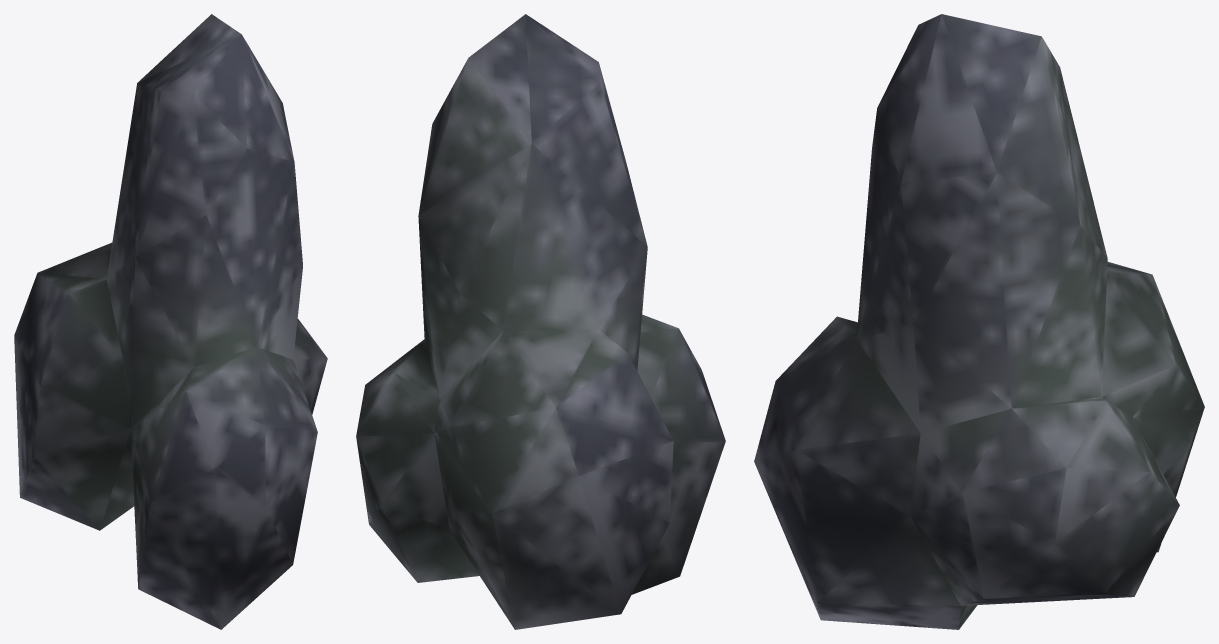
File: Rock_06.fbx
3 renders of one model, left to right at view 1: azimuth 30°, elevation 25°; view 2: azimuth 150°, elevation 25°; view 3: azimuth 270°, elevation 25°, orthographic. The views are drawn at different scales.
Parts seen in each view (by area): view 1: Rock_06; view 2: Rock_06; view 3: Rock_06.
Boxes of the visible parts, bbox=[...] form: Rock_06: bbox=[14, 14, 327, 629]; Rock_06: bbox=[356, 14, 725, 629]; Rock_06: bbox=[754, 14, 1204, 629].
Bounding box in the file's own units: 326 × 613 × 387.
1 material, 1 textured.
